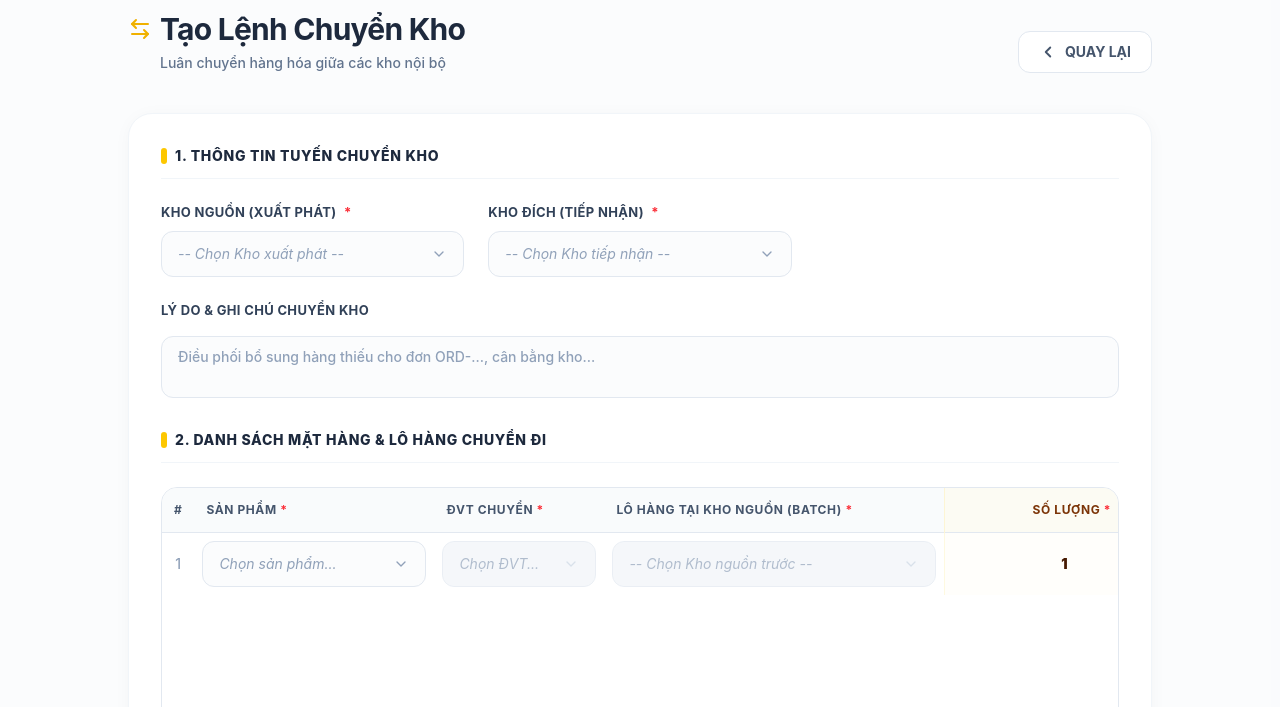
Scenario: Module 10 - InventoryTransferForm Component › TC02 - Báo lỗi validation khi chọn kho xuất và kho nhận trùng nhau
// Chọn Kho nguồn: Tổng Kho Hà Nội
Click the element showing "-- Chọn Kho xuất phát --" at (313, 254), box x1=161 y1=230 x2=464 y2=276
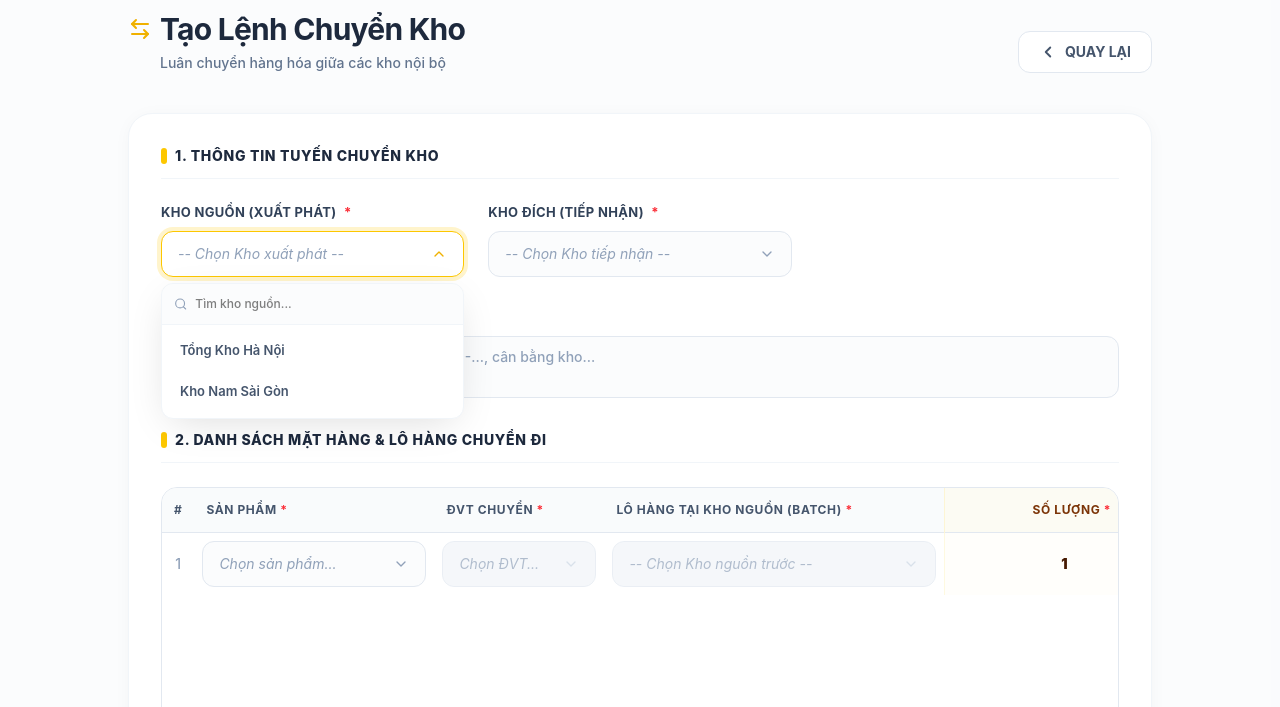
Click the text "Tổng Kho Hà Nội" at (232, 350), box x1=180 y1=342 x2=285 y2=358
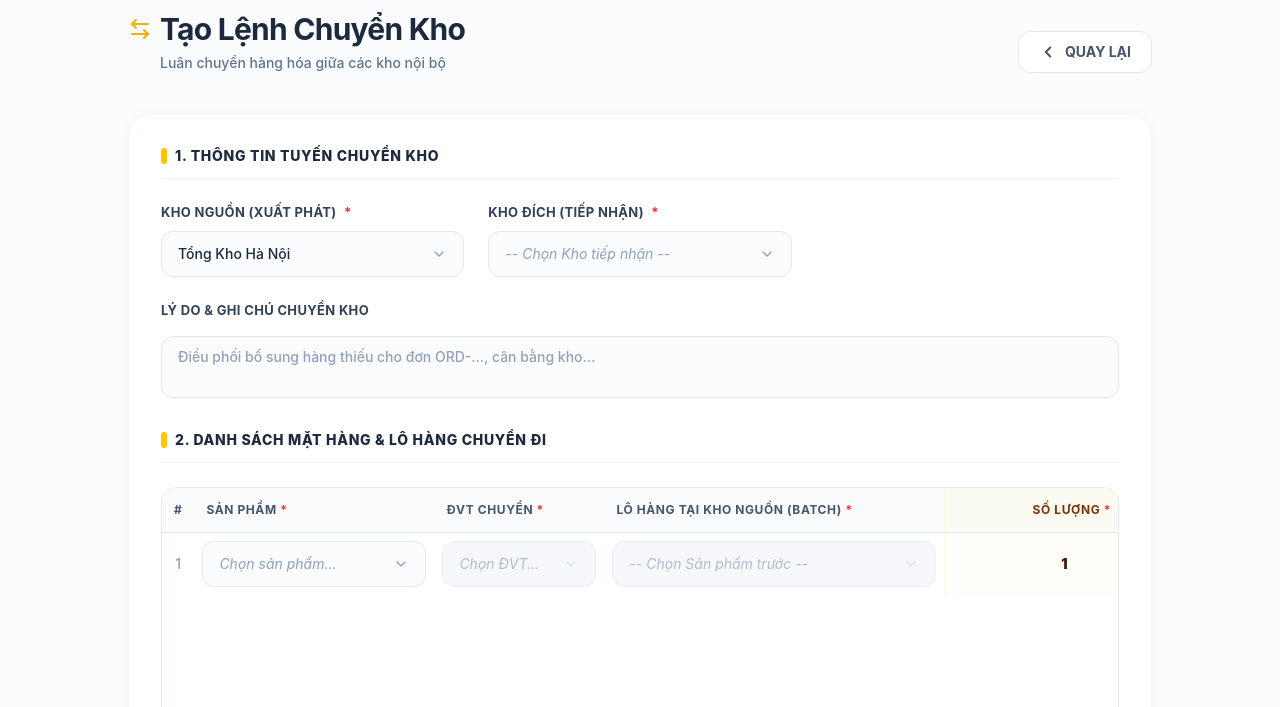
// Chọn Kho đích: Tổng Kho Hà Nội (trùng)
Click the element showing "-- Chọn Kho tiếp nhận --" at (640, 254), box x1=488 y1=230 x2=792 y2=276
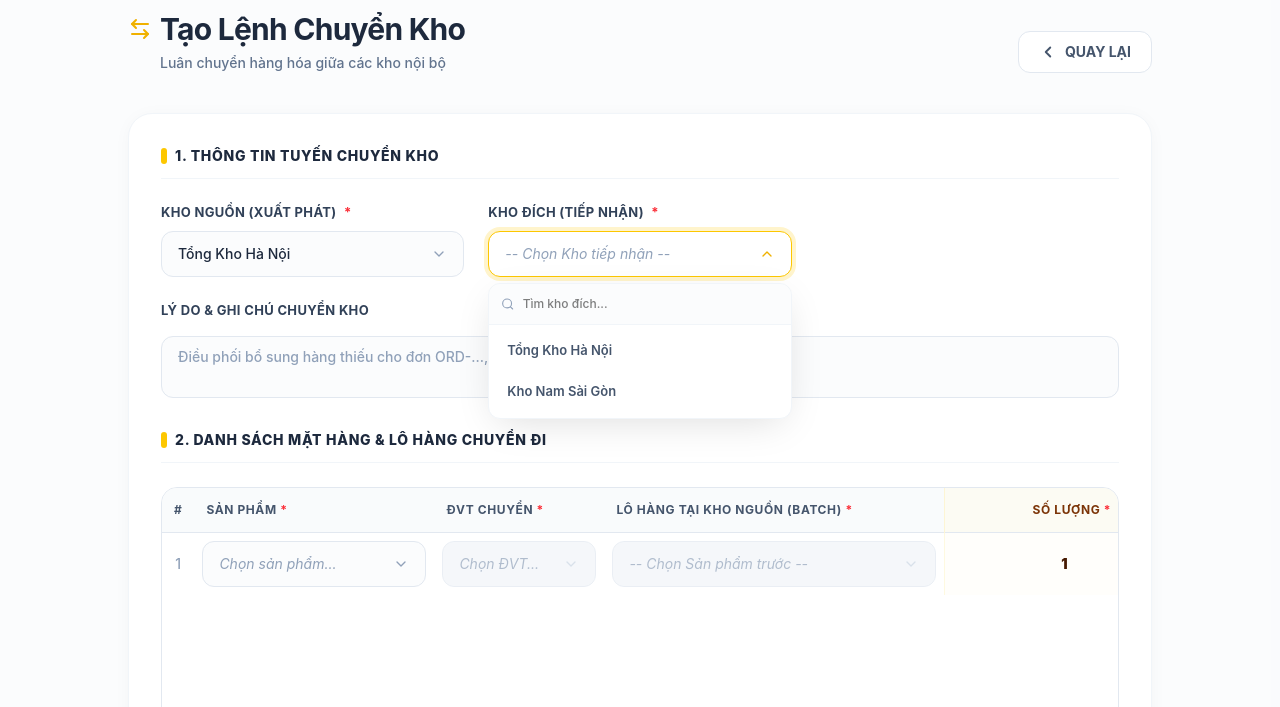
Click the text "Tổng Kho Hà Nội" below "-- Chọn Kho tiếp nhận --" at (560, 350), box x1=507 y1=342 x2=612 y2=358
(page scrolled)
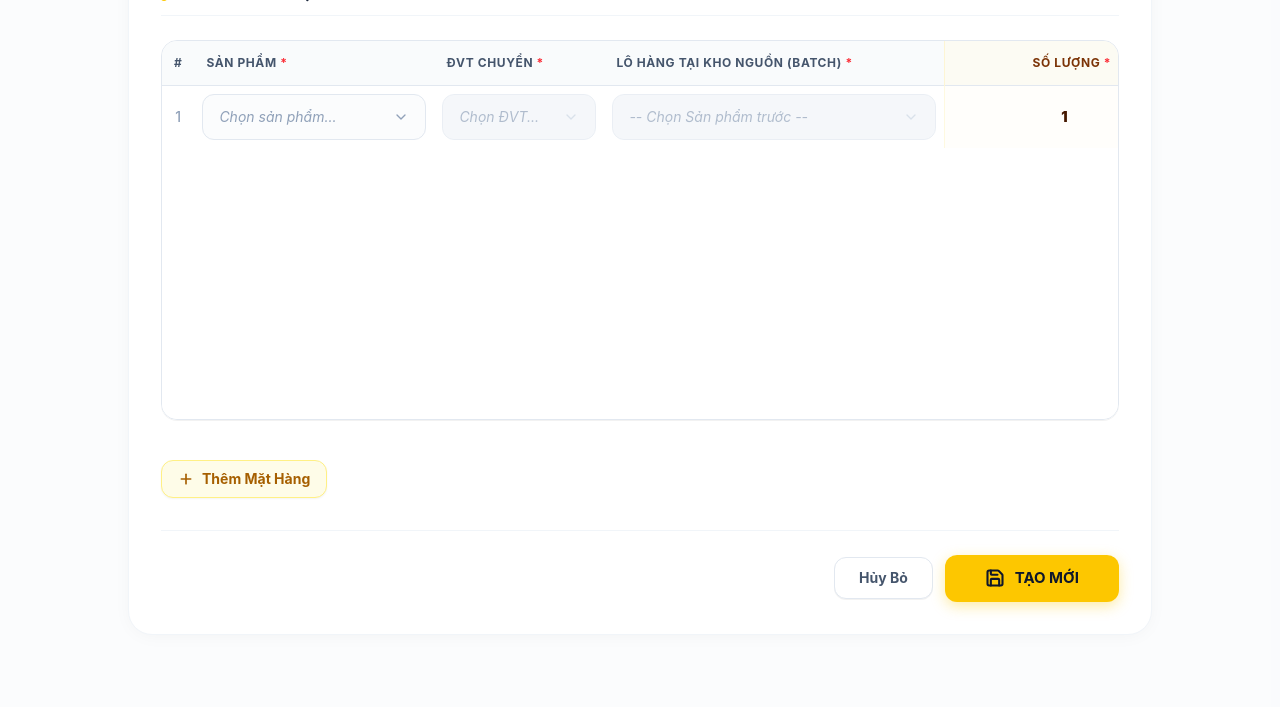
Click the button "TẠO MỚI" at (1032, 578), box x1=945 y1=555 x2=1119 y2=602
(page scrolled)
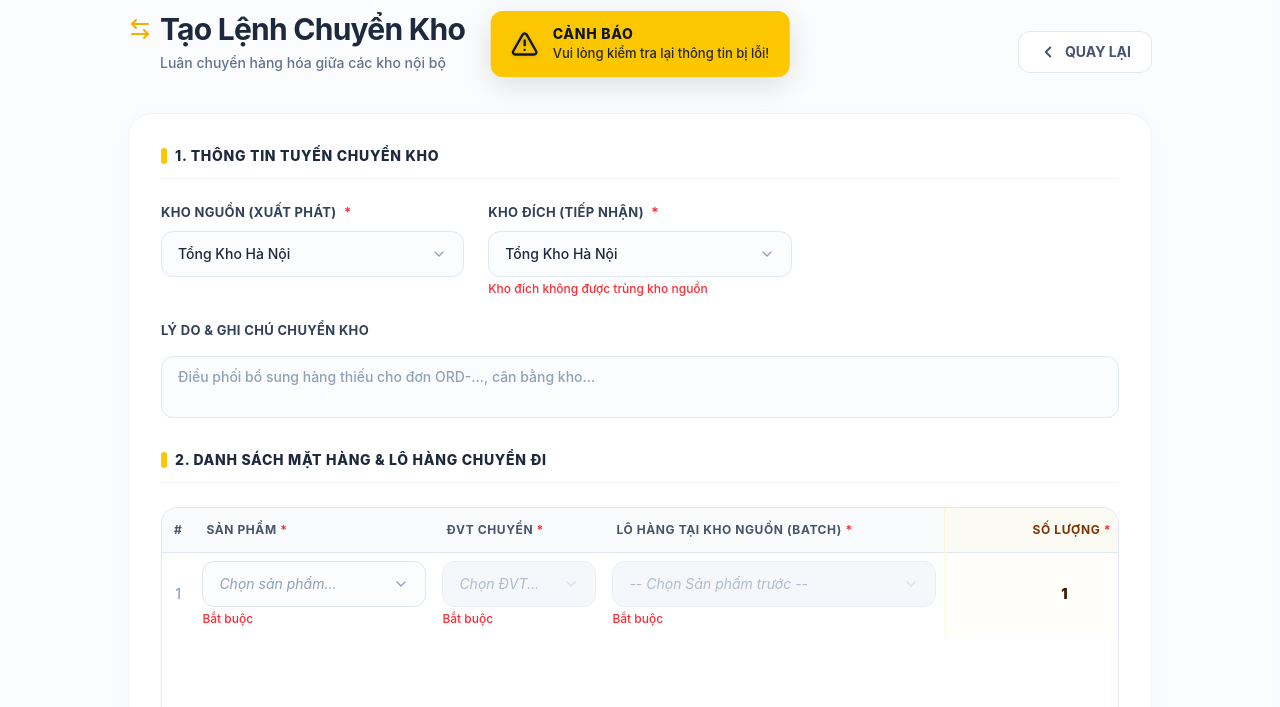
Result: the text "Kho đích không được trùng kho nguồn" is shown at x1=488 y1=280 x2=708 y2=296
